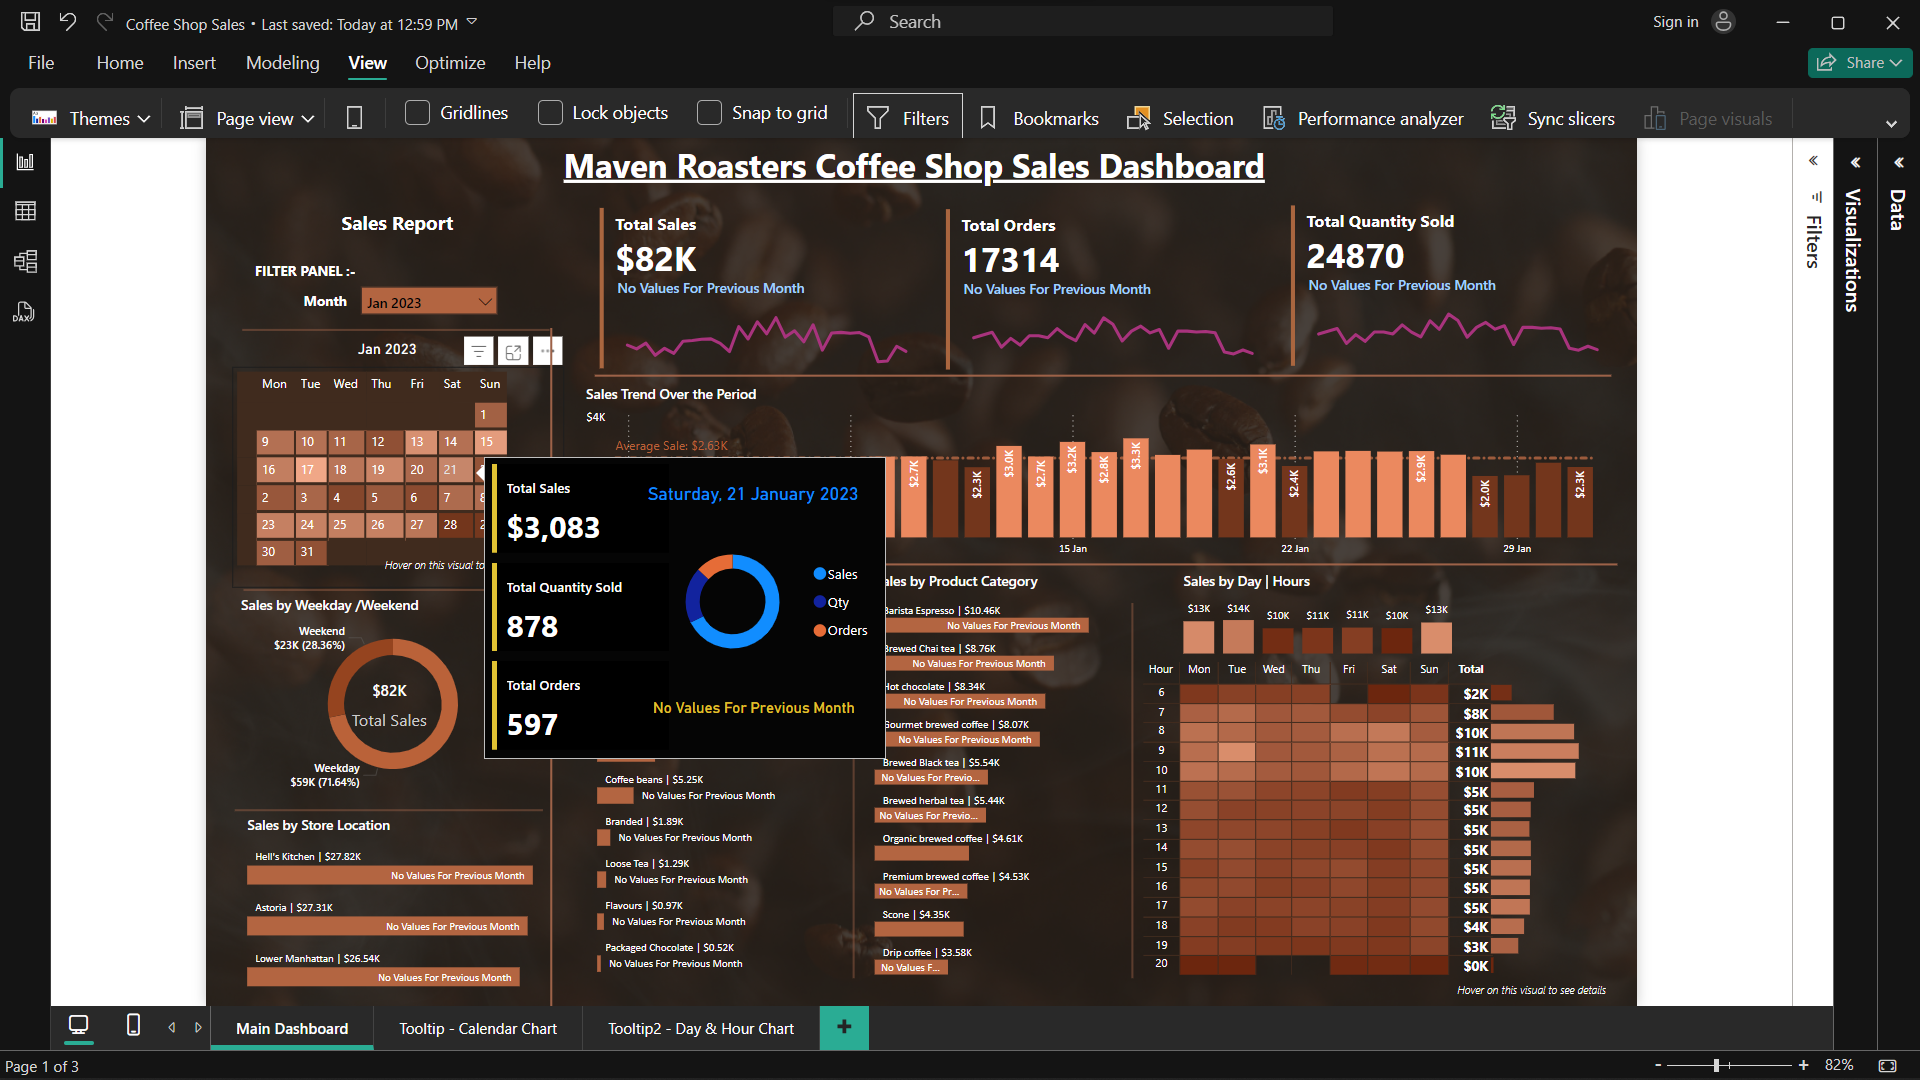

Layout of this report page (visuals, bound fields, positions):
{"tool":"powerbi","page":{"name":"Main Dashboard","canvas":[1400,850],"ordinal":0},"visuals":[{"type":"textbox","box":[345.5,0,705.7,61.6],"z":0},{"type":"slicer","fields":{"Values":["Date Table.Month Year"]},"box":[146.2,141.2,143.8,36.2],"z":1000},{"type":"group","id":"g1","title":"Group 1","box":[380.7,63.1,319.4,168],"z":2000},{"type":"group","id":"g2","title":"Group 1","box":[719,64.4,318.7,168],"z":3000},{"type":"group","id":"g3","title":"Group 1","box":[1056.6,61.5,318.2,166.6],"z":4000},{"type":"cardVisual","fields":{"Data":["Transactions.Total Quantity Sold"]},"box":[1056.6,61.5,318.7,168],"z":4000,"group":"g3"},{"type":"cardVisual","fields":{"Data":["Transactions.Total Sales"]},"box":[380.7,63.1,318.7,168],"z":4000,"group":"g1"},{"type":"cardVisual","fields":{"Data":["Transactions.Total Orders"]},"box":[719,64.4,318.7,168],"z":4000,"group":"g2"},{"type":"pivotTable","fields":{"Rows":["Date Table.Week Number"],"Columns":["Date Table.Day Name"],"Values":["Min(Date Table.Day Number)"]},"box":[25.6,224.4,324.4,215.6],"z":5000},{"type":"lineChart","fields":{"Category":["Date Table.Date.Variation.Date Hierarchy.Year","Date Table.Date.Variation.Date Hierarchy.Quarter","Date Table.Date.Variation.Date Hierarchy.Month","Date Table.Date.Variation.Date Hierarchy.Day"],"Y":["Transactions.Total Orders"]},"box":[1073.4,135,302.7,89.5],"z":6000,"group":"g3"},{"type":"lineChart","fields":{"Category":["Date Table.Date.Variation.Date Hierarchy.Year","Date Table.Date.Variation.Date Hierarchy.Quarter","Date Table.Date.Variation.Date Hierarchy.Month","Date Table.Date.Variation.Date Hierarchy.Day"],"Y":["Transactions.Total Sales"]},"box":[397.5,136.6,302.7,89.5],"z":6000,"group":"g1"},{"type":"lineChart","fields":{"Category":["Date Table.Date.Variation.Date Hierarchy.Year","Date Table.Date.Variation.Date Hierarchy.Quarter","Date Table.Date.Variation.Date Hierarchy.Month","Date Table.Date.Variation.Date Hierarchy.Day"],"Y":["Transactions.Total Orders"]},"box":[735.8,137.9,302.7,89.5],"z":6000,"group":"g2"},{"type":"card","fields":{"Values":["Min(Date Table.Month Year)"]},"box":[132.6,186.1,91.1,42.8],"z":6000},{"type":"card","fields":{"Values":["Transactions.Foot Note"]},"box":[146,401.7,204.9,38.8],"z":7000},{"type":"shape","box":[627.5,455,12.5,367.5],"z":8000},{"type":"shape","box":[35.6,182.2,301.1,11.1],"z":9000},{"type":"donutChart","title":"Sales by Weekday /Weekend","fields":{"Category":["Date Table.Weekday /Weekend"],"Y":["Transactions.Total Sales"]},"box":[28.8,447.5,307.5,195],"z":10000},{"type":"card","fields":{"Values":["Transactions.Total Sales"]},"box":[113.3,525,131.7,58.3],"z":11000},{"type":"shape","box":[28.3,651.7,301.7,11.7],"z":12000},{"type":"clusteredBarChart","title":"Sales by Store Location","fields":{"Category":["Transactions.store_location"],"Y":["Transactions.Place Holder","Transactions.Total Sales"]},"box":[35,662.5,313.8,175],"z":13000},{"type":"columnChart","title":"Sales Trend Over the Period","fields":{"Category":["Transactions.transaction_date"],"Y":["Transactions.Total Sales"]},"box":[366.9,241,997.6,178.1],"z":14000},{"type":"clusteredBarChart","title":"Sales by Product Category","fields":{"Y":["Transactions.Place Holder","Transactions.Total Sales"],"Category":["Transactions.product_category"]},"box":[377.5,425,250,397.5],"z":15000},{"type":"shape","box":[36.2,436.2,301.2,11.2],"z":16000},{"type":"clusteredBarChart","title":"Sales by Product Category","fields":{"Y":["Transactions.Place Holder","Transactions.Total Sales"],"Category":["Transactions.product_type"]},"box":[650,425,250,400],"z":17000},{"type":"shape","box":[900,455,12.5,367.5],"z":18000},{"type":"pivotTable","fields":{"Rows":["Transactions.Hour"],"Values":["Transactions.Total Sales"],"Columns":["Date Table.Day Name"]},"box":[912.5,507.5,362.5,317.5],"z":19000},{"type":"barChart","fields":{"Category":["Transactions.Hour"],"Y":["Transactions.Total Sales"]},"box":[1252.5,522.5,132.5,300],"z":20000},{"type":"columnChart","title":"Sales by Day | Hours","fields":{"Y":["Transactions.Total Sales"],"Category":["Date Table.Day Name"]},"box":[951.2,425,273.8,86.2],"z":21000},{"type":"textbox","box":[90,145,66.2,28.8],"z":22000},{"type":"textbox","box":[121.2,65,132.5,37.5],"z":23000},{"type":"textbox","box":[42.5,116.2,157.5,28.8],"z":24000},{"type":"shape","box":[380.3,180.8,994.9,103.1],"z":25000},{"type":"shape","box":[374.9,365.6,1006.9,103.1],"z":26000},{"type":"shape","box":[328.1,186.1,20.1,664.1],"z":26001},{"type":"card","fields":{"Values":["Transactions.Foot Note"]},"box":[1195.7,822.2,204.9,28.1],"z":26002}]}

Visuals, with their boxes on the page's 1400x850 design canvas (x1, y1, x2, y2). These are canvas units, not pixel positions in the 1920x1080 screenshot, which may show the page scaled, cropped or inside an application window:
textbox: crop(346, 0, 1051, 62)
slicer - Date Table.Month Year: crop(146, 141, 290, 177)
"Group 1" group: crop(381, 63, 700, 231)
"Group 1" group: crop(719, 64, 1038, 232)
"Group 1" group: crop(1057, 62, 1375, 228)
cardVisual - Transactions.Total Quantity Sold: crop(1057, 62, 1375, 230)
cardVisual - Transactions.Total Sales: crop(381, 63, 699, 231)
cardVisual - Transactions.Total Orders: crop(719, 64, 1038, 232)
pivotTable - Date Table.Week Number x Date Table.Day Name: crop(26, 224, 350, 440)
lineChart - Date Table.Date.Variation.Date Hierarchy.Year x Date Table.Date.Variation.Date Hierarchy.Quarter: crop(1073, 135, 1376, 224)
lineChart - Date Table.Date.Variation.Date Hierarchy.Year x Date Table.Date.Variation.Date Hierarchy.Quarter: crop(398, 137, 700, 226)
lineChart - Date Table.Date.Variation.Date Hierarchy.Year x Date Table.Date.Variation.Date Hierarchy.Quarter: crop(736, 138, 1038, 227)
card - Min(Date Table.Month Year): crop(133, 186, 224, 229)
card - Transactions.Foot Note: crop(146, 402, 351, 440)
shape: crop(628, 455, 640, 822)
shape: crop(36, 182, 337, 193)
"Sales by Weekday /Weekend" donutChart: crop(29, 448, 336, 642)
card - Transactions.Total Sales: crop(113, 525, 245, 583)
shape: crop(28, 652, 330, 663)
"Sales by Store Location" clusteredBarChart: crop(35, 662, 349, 838)
"Sales Trend Over the Period" columnChart: crop(367, 241, 1364, 419)
"Sales by Product Category" clusteredBarChart: crop(378, 425, 628, 822)
shape: crop(36, 436, 337, 447)
"Sales by Product Category" clusteredBarChart: crop(650, 425, 900, 825)
shape: crop(900, 455, 912, 822)
pivotTable - Transactions.Hour x Transactions.Total Sales: crop(912, 508, 1275, 825)
barChart - Transactions.Hour x Transactions.Total Sales: crop(1252, 522, 1385, 822)
"Sales by Day | Hours" columnChart: crop(951, 425, 1225, 511)
textbox: crop(90, 145, 156, 174)
textbox: crop(121, 65, 254, 102)
textbox: crop(42, 116, 200, 145)
shape: crop(380, 181, 1375, 284)
shape: crop(375, 366, 1382, 469)
shape: crop(328, 186, 348, 850)
card - Transactions.Foot Note: crop(1196, 822, 1401, 850)
